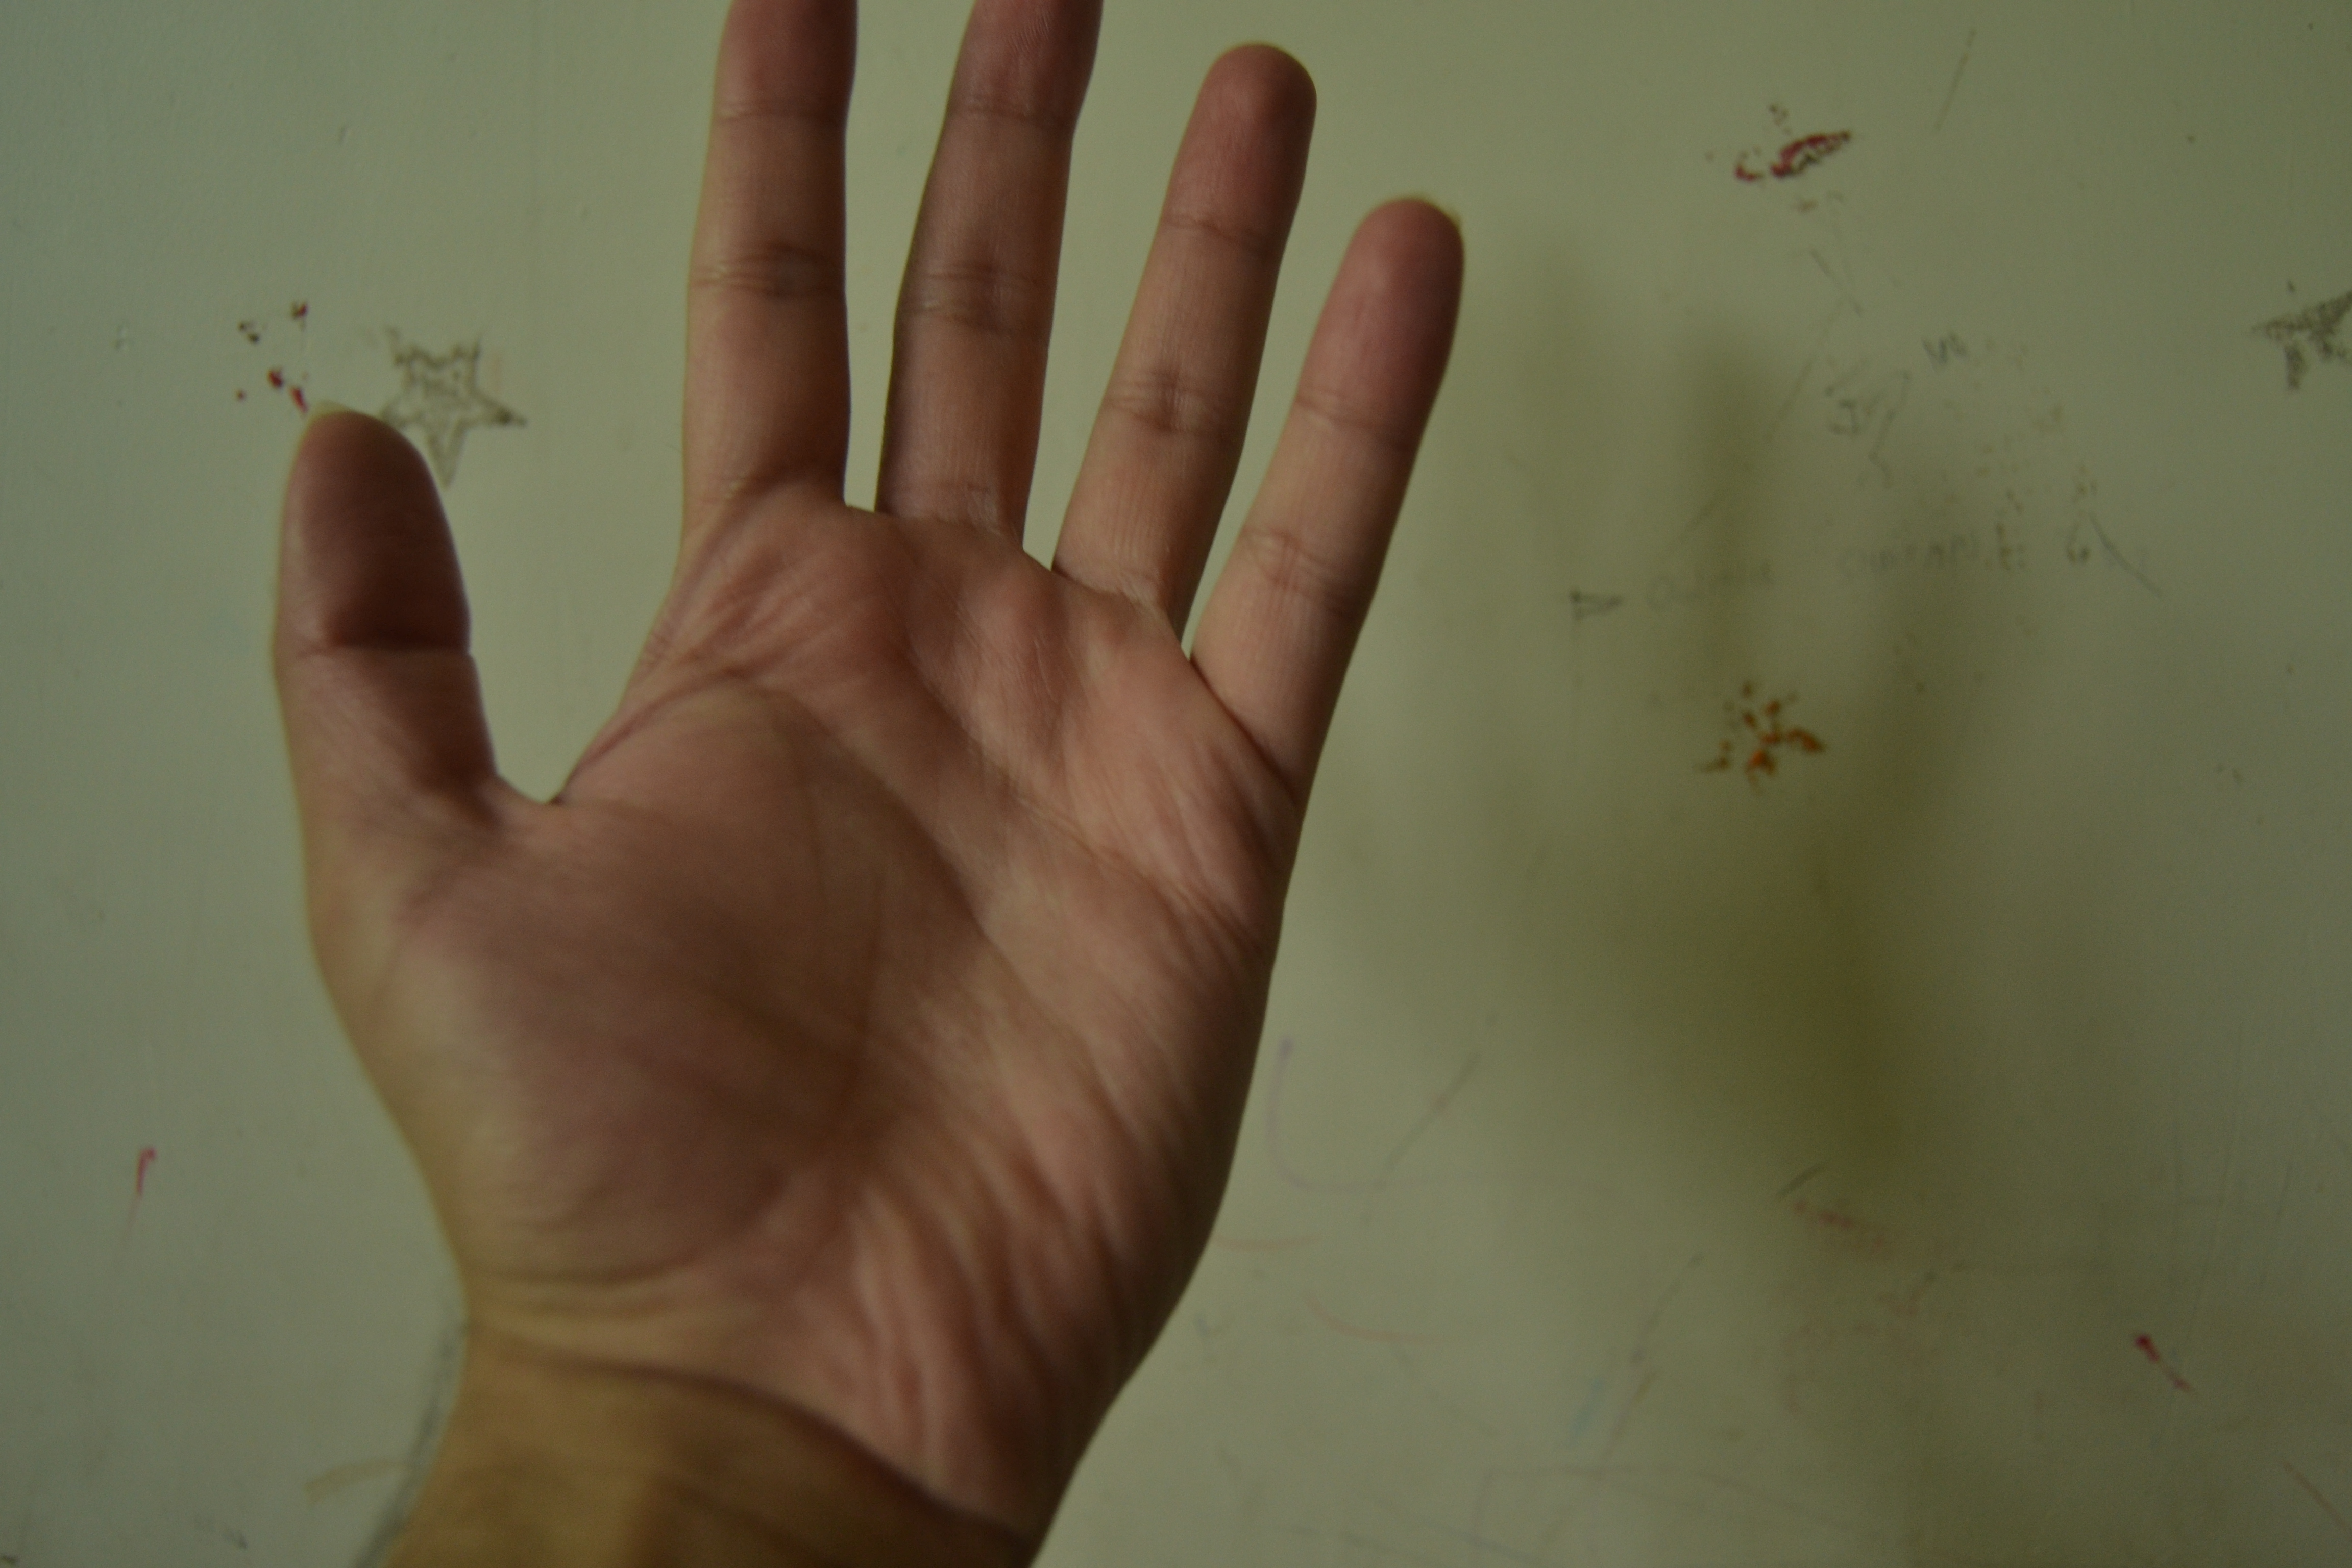move: (234, 9, 1484, 1417)
